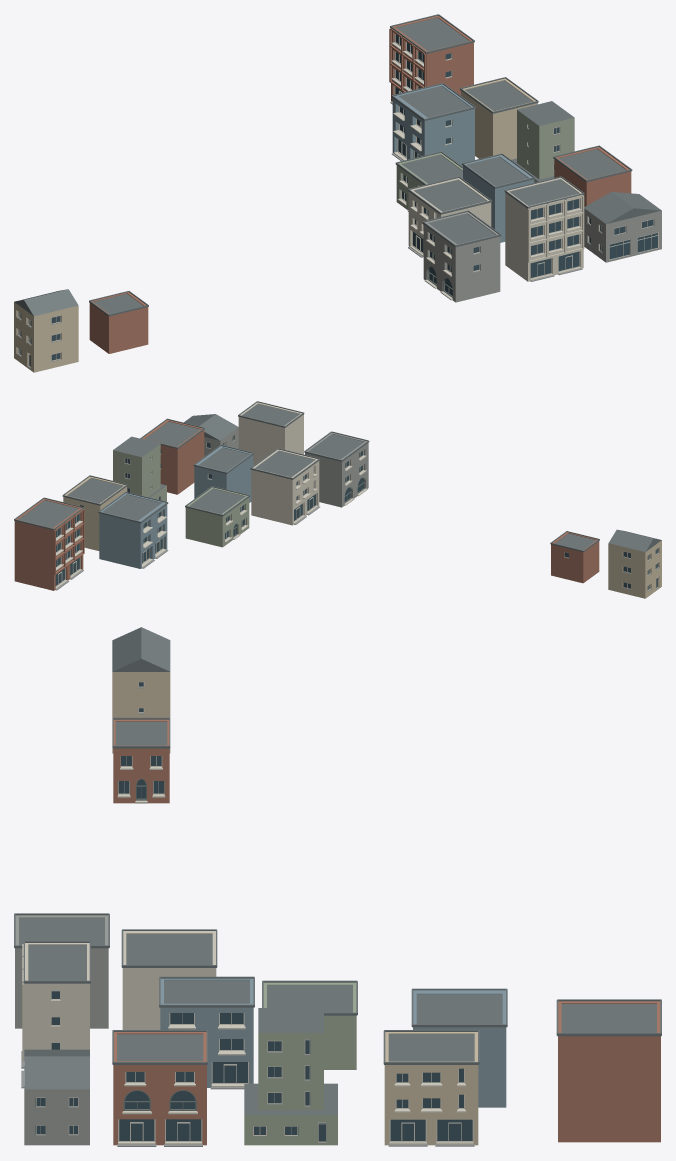
The model's file is Buildings3.fbx.
3 views of the same model, one above another, from view 1: azimuth 30°, elevation 25°; view 2: azimuth 150°, elevation 25°; view 3: azimuth 270°, elevation 25° (orthographic). The views are drawn at different scales.
Parts seen in each view (by area): view 1: AB01_G05.001, AB01_F06.001, AB01_F02.001, AB01_F03.001, AB01_H01.001, AB01_G04.001, AB01_G01.001, AB01_G02.001, AB01_F05.001, AB01_H02.001, AB01_G03.001, AB01_G06.001 (+1 smaller); view 2: AB01_F02.001, AB01_F05.001, AB01_F03.001, AB01_F06.001, AB01_H01.001, AB01_F04.001, AB01_G05.001, AB01_G03.001, AB01_G02.001, AB01_G06.001, AB01_H02.001, AB01_G01.001 (+1 smaller); view 3: AB01_F02.001, AB01_G01.001, AB01_G03.001, AB01_G02.001, AB01_G06.001, AB01_G05.001, AB01_F05.001, AB01_G04.001, AB01_F03.001, AB01_F06.001, AB01_H01.001, AB01_H02.001 (+1 smaller).
Part boxes in pixels (bbox=[...]): AB01_G05.001: bbox=[504, 176, 584, 281]; AB01_F06.001: bbox=[422, 210, 501, 302]; AB01_F02.001: bbox=[389, 14, 474, 104]; AB01_F03.001: bbox=[391, 83, 475, 166]; AB01_H01.001: bbox=[14, 289, 78, 372]; AB01_G04.001: bbox=[584, 192, 661, 262]; AB01_G01.001: bbox=[460, 77, 538, 159]; AB01_G02.001: bbox=[511, 101, 574, 182]; AB01_F05.001: bbox=[407, 176, 492, 257]; AB01_H02.001: bbox=[89, 291, 148, 353]; AB01_G03.001: bbox=[553, 145, 632, 206]; AB01_G06.001: bbox=[462, 153, 534, 242]; AB01_F02.001: bbox=[14, 497, 84, 590]; AB01_F05.001: bbox=[250, 448, 320, 525]; AB01_F03.001: bbox=[98, 492, 168, 568]; AB01_F06.001: bbox=[304, 431, 369, 507]; AB01_H01.001: bbox=[608, 529, 661, 598]; AB01_F04.001: bbox=[185, 486, 250, 547]; AB01_G05.001: bbox=[238, 401, 304, 465]; AB01_G03.001: bbox=[140, 418, 204, 494]; AB01_G02.001: bbox=[113, 436, 166, 501]; AB01_G06.001: bbox=[193, 445, 253, 502]; AB01_H02.001: bbox=[550, 531, 599, 583]; AB01_G01.001: bbox=[62, 475, 127, 550]; AB01_F02.001: bbox=[556, 999, 661, 1142]; AB01_G01.001: bbox=[383, 1030, 479, 1146]; AB01_G03.001: bbox=[112, 1030, 207, 1146]; AB01_G02.001: bbox=[244, 1008, 337, 1145]; AB01_G06.001: bbox=[159, 976, 254, 1089]; AB01_G05.001: bbox=[21, 941, 90, 1088]; AB01_F05.001: bbox=[121, 929, 217, 1029]; AB01_G04.001: bbox=[24, 1049, 89, 1145]; AB01_F03.001: bbox=[411, 988, 507, 1107]; AB01_F06.001: bbox=[14, 913, 109, 1028]; AB01_H01.001: bbox=[112, 627, 170, 753]; AB01_H02.001: bbox=[112, 717, 170, 803].
Size of the model in its own units: 107 by 12.85 by 69.24.
